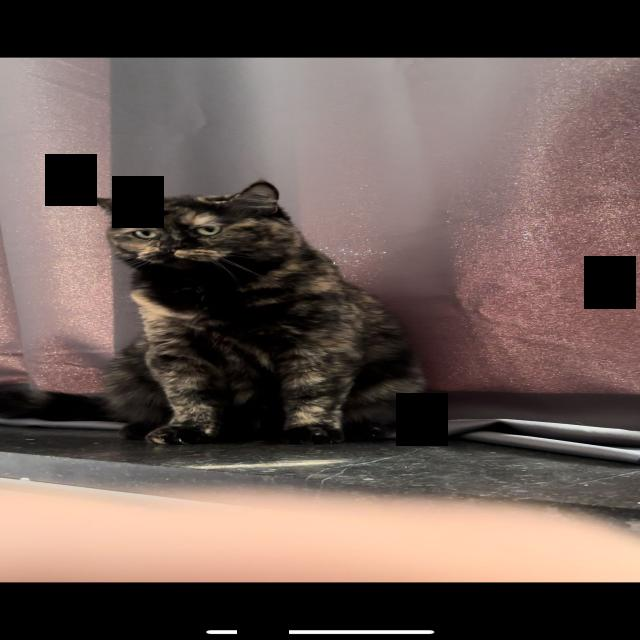authorized: (2, 178, 428, 445)
